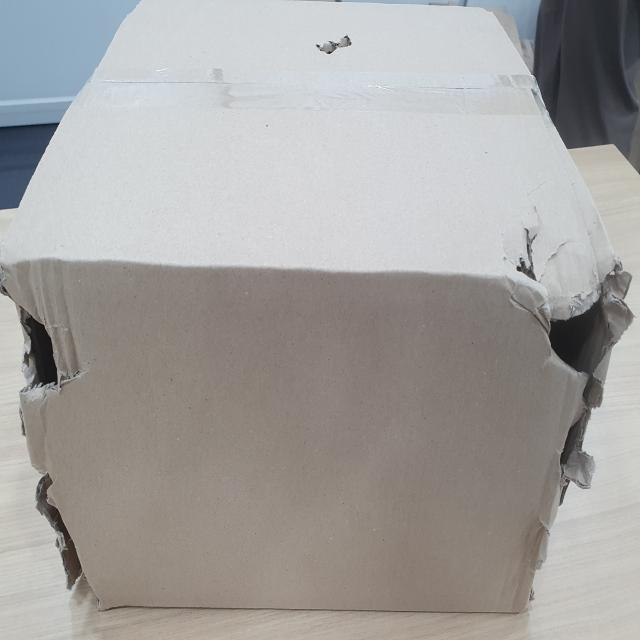hole: (534, 266, 620, 474), (28, 457, 97, 601), (7, 274, 77, 391)
